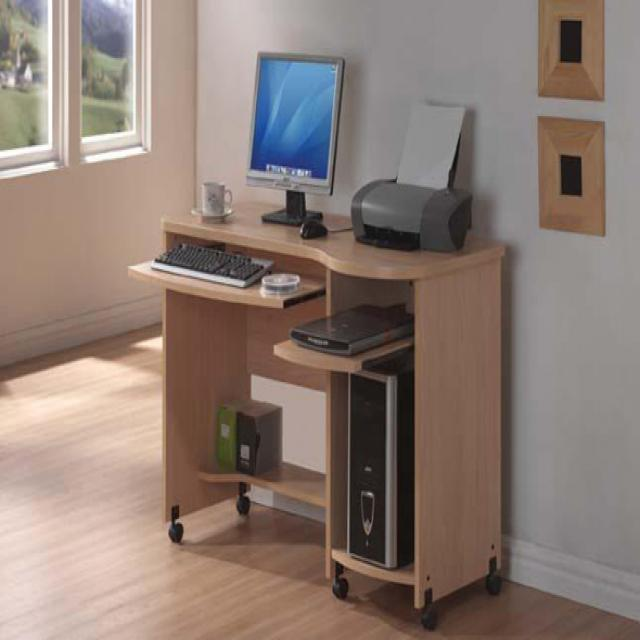computer: (252, 38, 359, 242)
cup: (198, 165, 234, 229)
desk: (166, 174, 472, 607)
